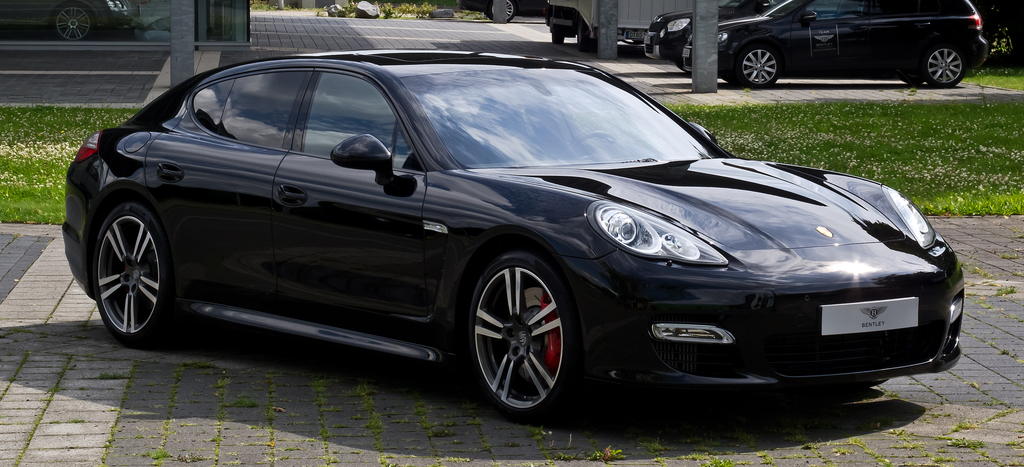Car: (58, 51, 972, 418), (684, 0, 988, 84), (645, 0, 771, 60), (0, 0, 131, 37)
